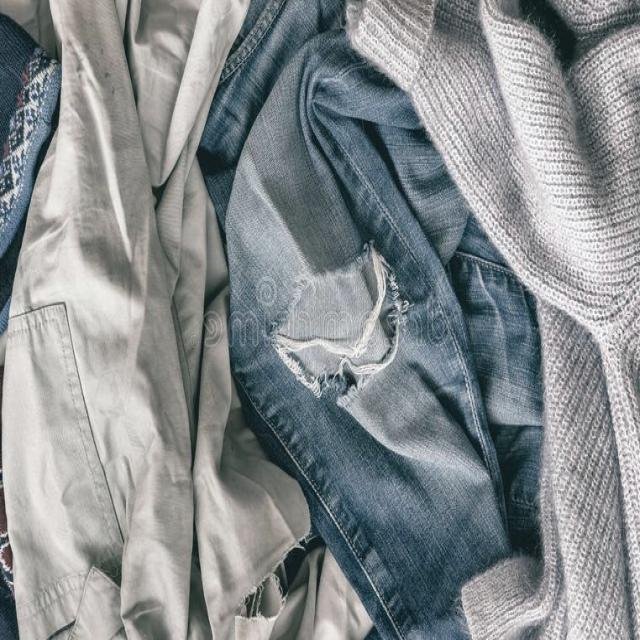clothes: (54, 132, 582, 544)
